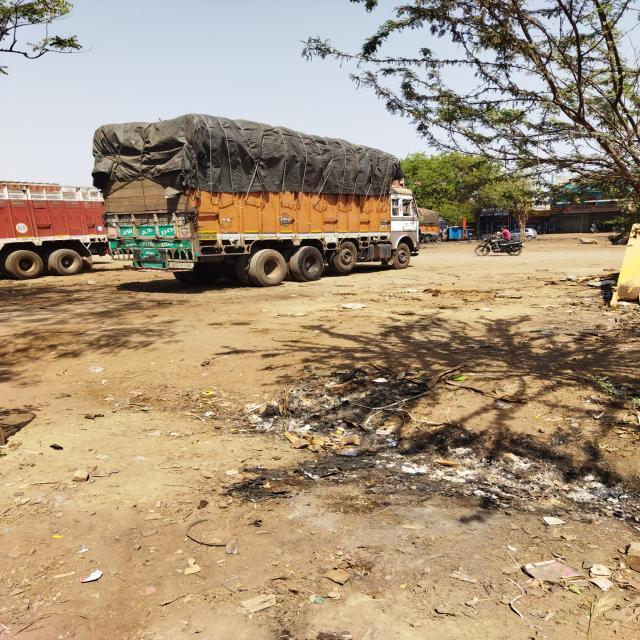truck_back: (84, 109, 430, 294), (0, 172, 120, 280)
